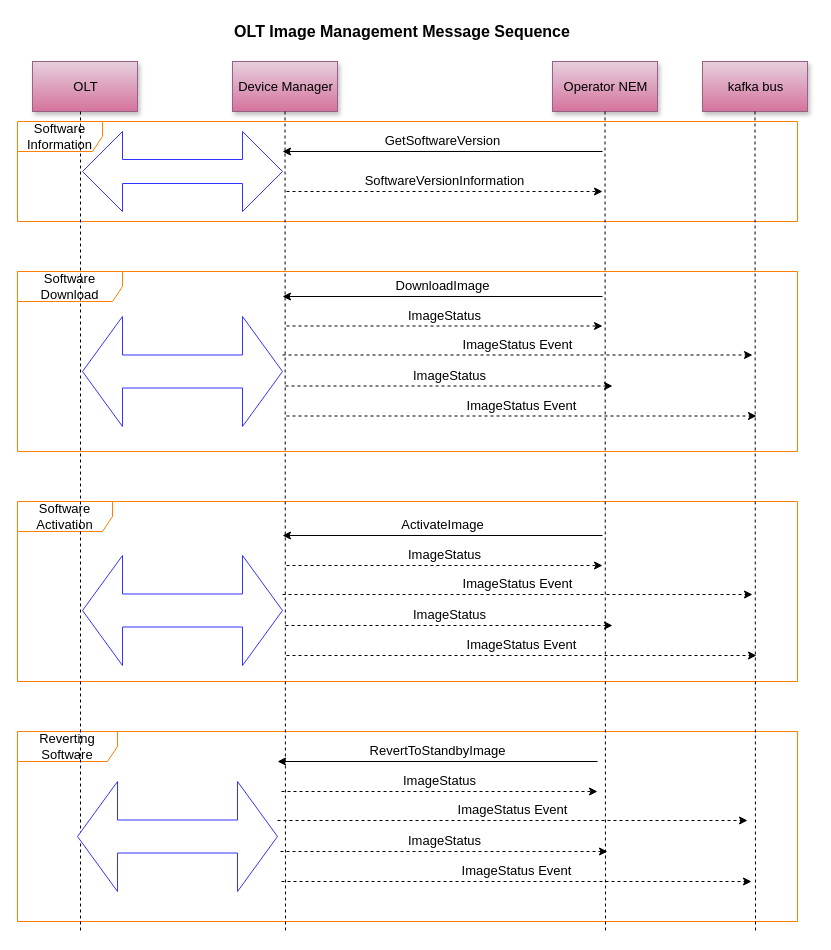
The diagram is 831 pixels wide and 950 high, and some of its shapes have lost their labels. The shapes that lost their labels are listed below. From the top down, each one's centre as x and y in pixels, then its label:
At (x=182, y=171): "Retrieve Software information".
At (x=182, y=371): "Download Image to Standby".
At (x=182, y=610): "Activate Image and boot OLT from this image".
At (x=177, y=836): "Make the Standby Image as Active and reboot OLT".
